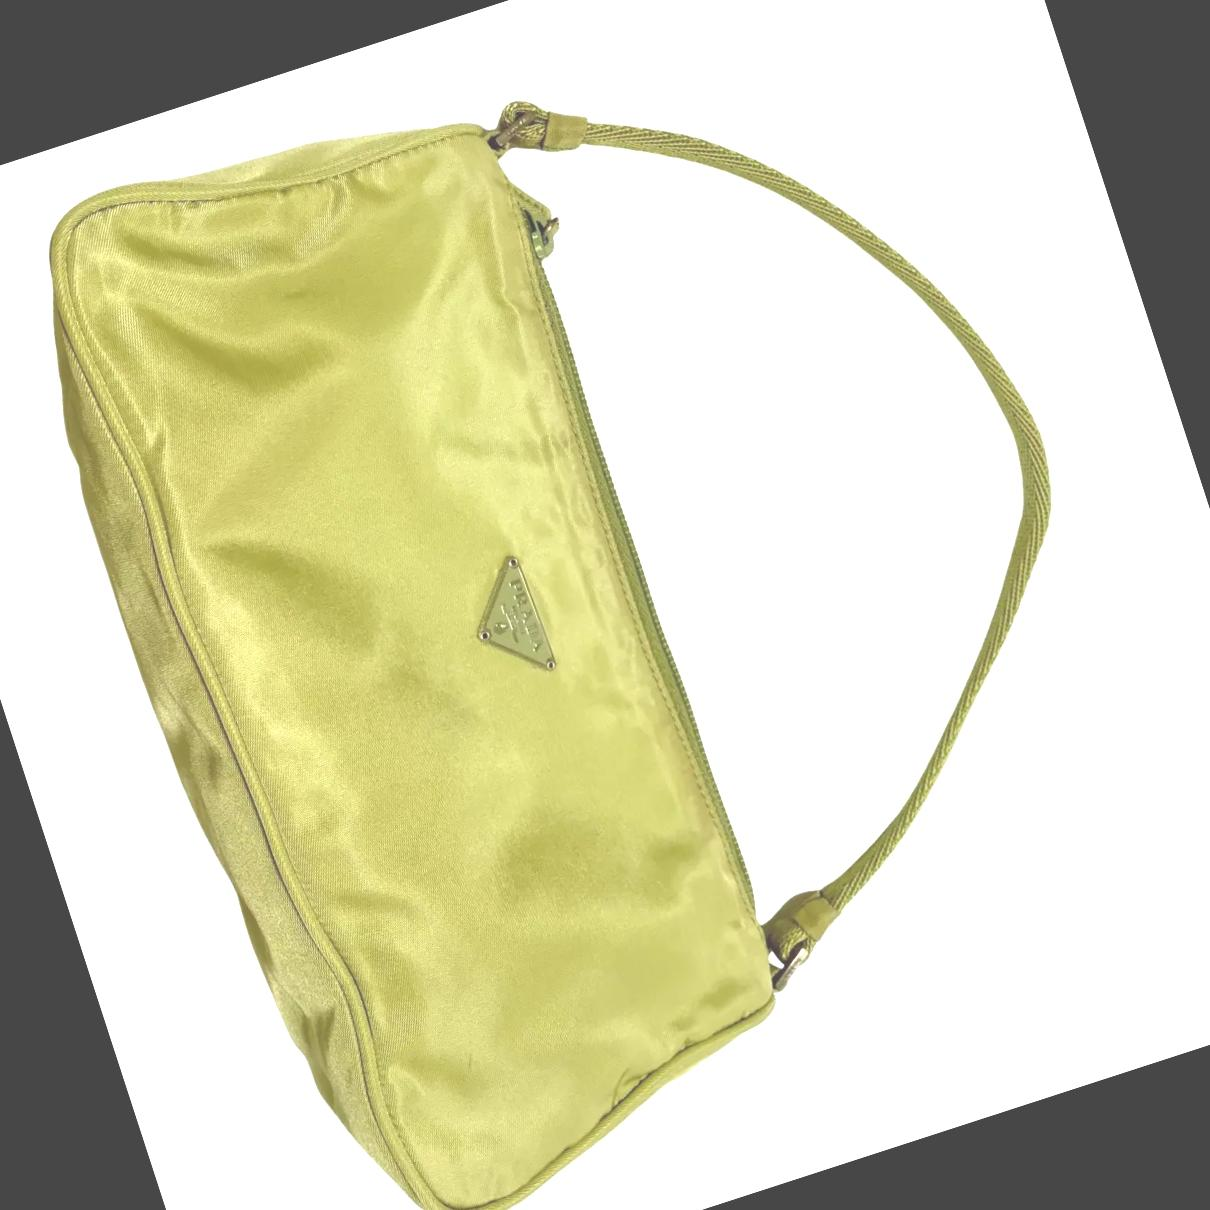PRADA: (455, 553, 557, 689)
